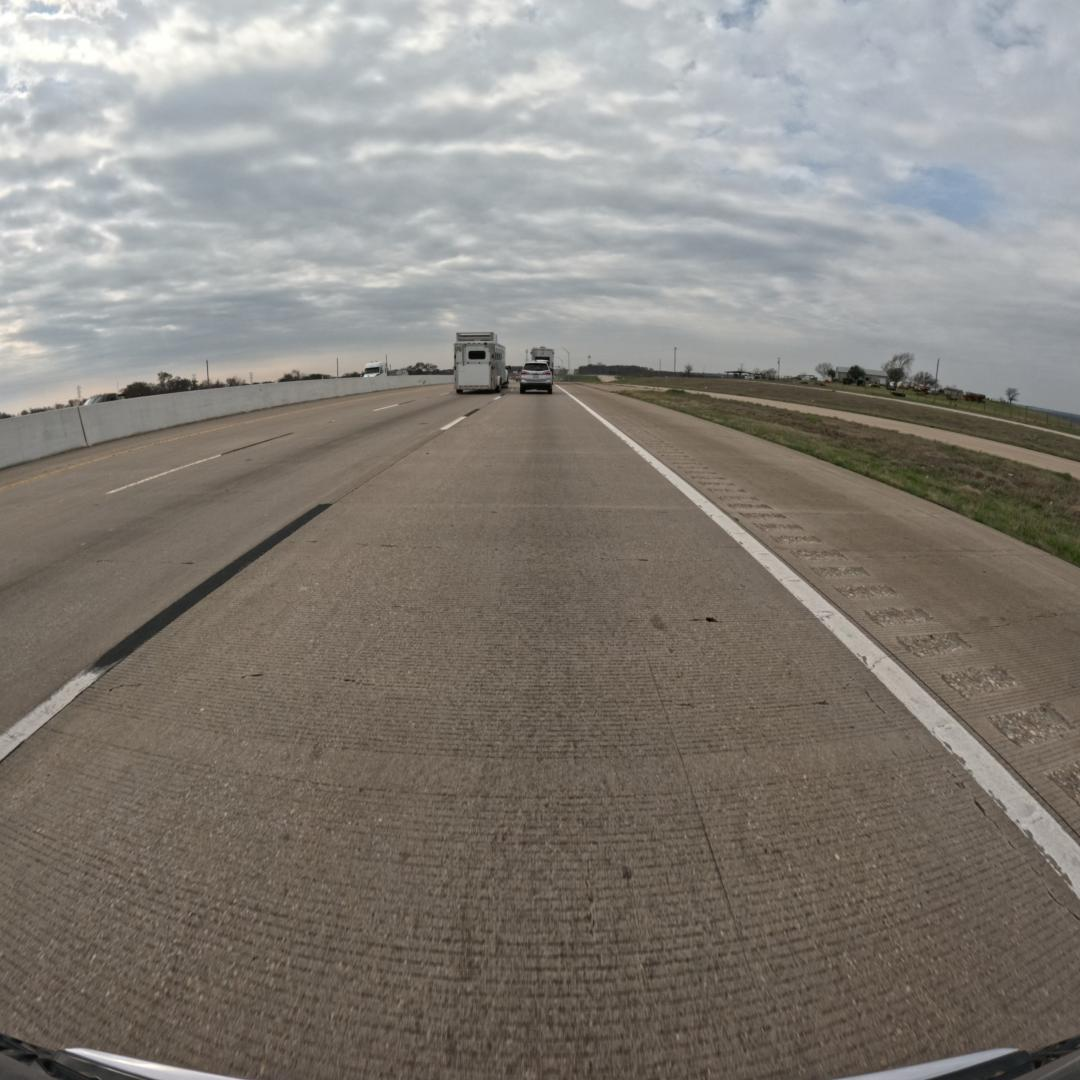lane0: (0, 393, 1080, 1079)
lane1: (0, 392, 503, 761)
